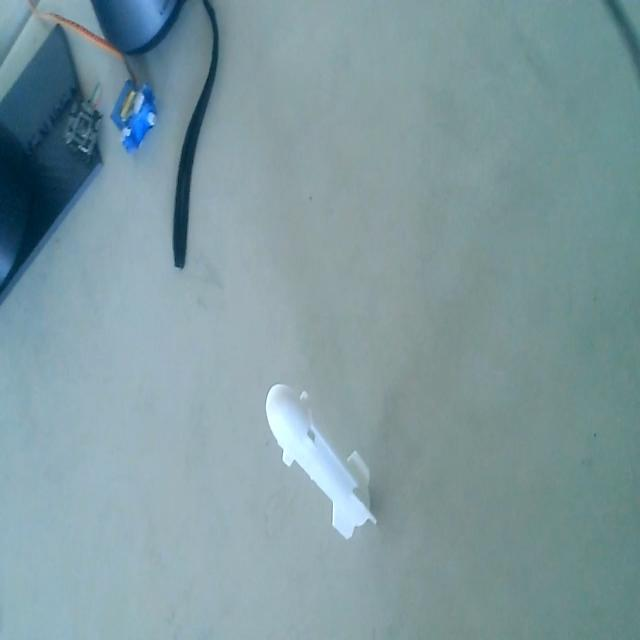Rocket: (263, 381, 377, 553)
